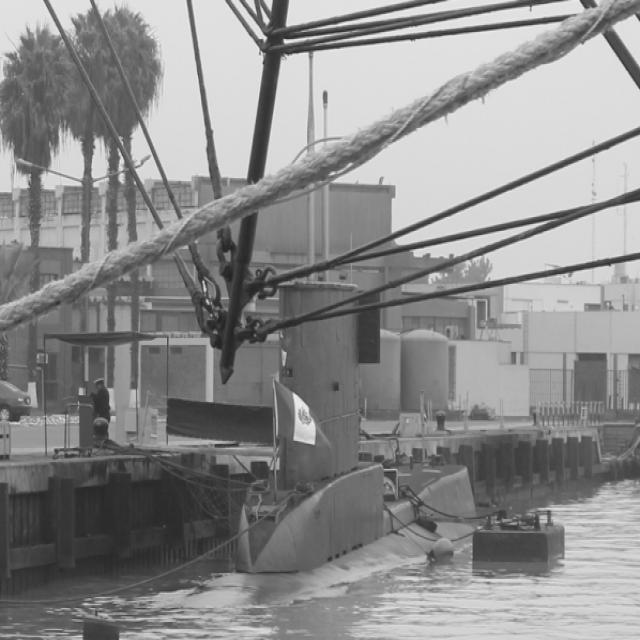submarine: (105, 247, 518, 634)
